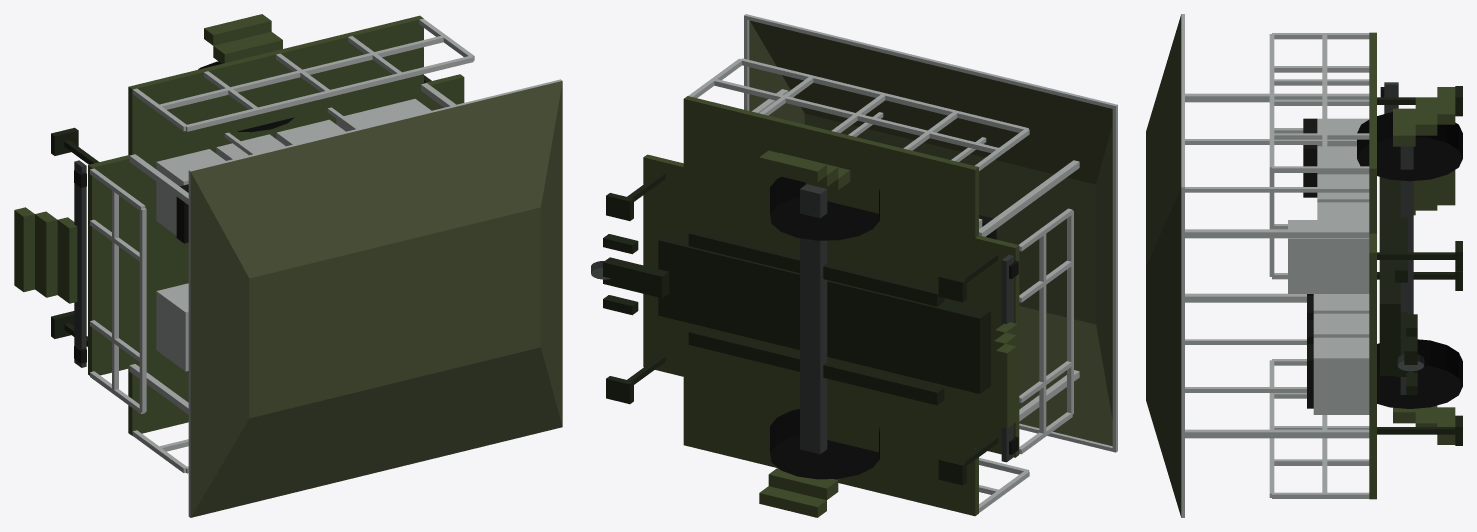
File: mkt85_unfolded_cm.obj
The picture shows the model from 3 angles, left to right: view 1: azimuth 30°, elevation 25°; view 2: azimuth 150°, elevation 25°; view 3: azimuth 270°, elevation 25°; orthographic projection. The views are drawn at different scales.
Visible parts, largest first — view 1: MKT85_Unfolded_xLights_Reference; view 2: MKT85_Unfolded_xLights_Reference; view 3: MKT85_Unfolded_xLights_Reference.
Boxes of the visible parts, <box> form: MKT85_Unfolded_xLights_Reference: <box>14,14,562,517</box>; MKT85_Unfolded_xLights_Reference: <box>591,14,1117,517</box>; MKT85_Unfolded_xLights_Reference: <box>1146,14,1462,517</box>.
Bounding box in the file's own units: 511 × 386 × 335.
